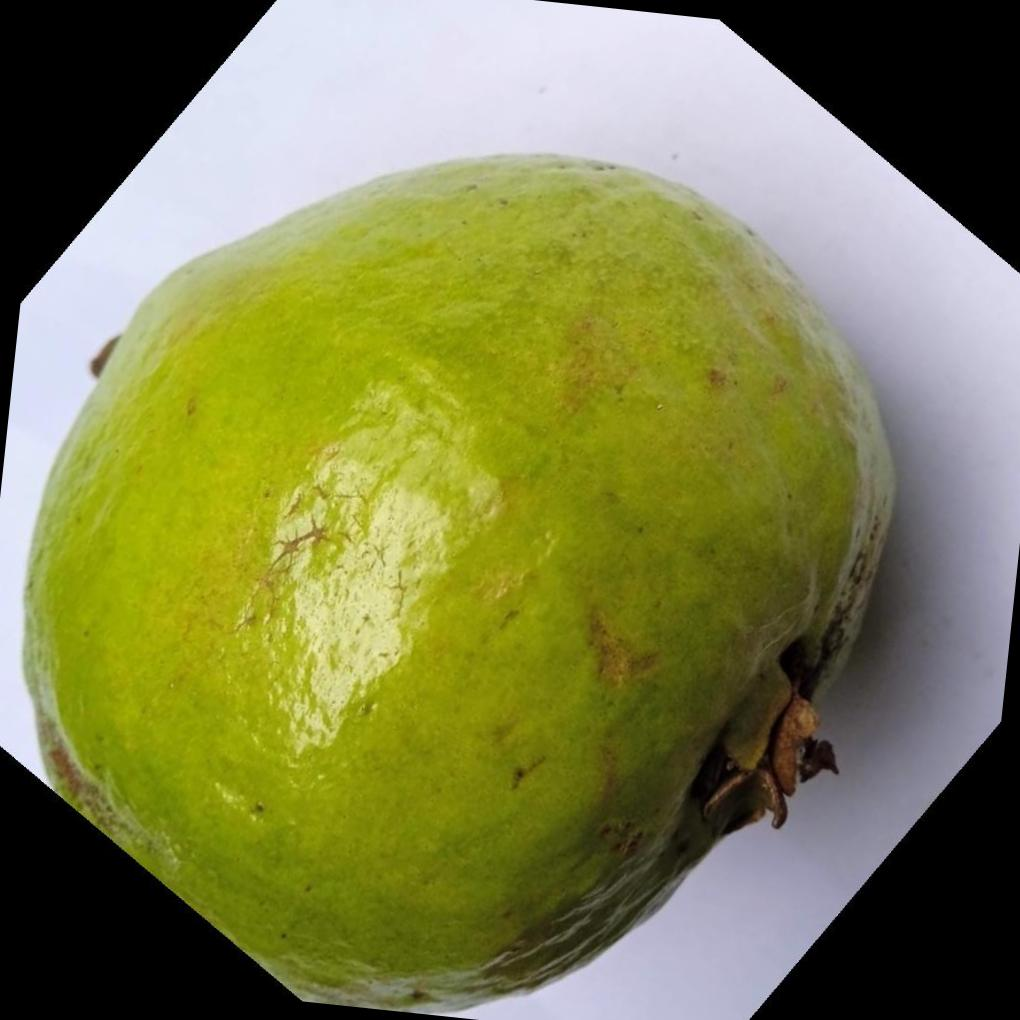FreshGuava: (15, 149, 895, 1015)
